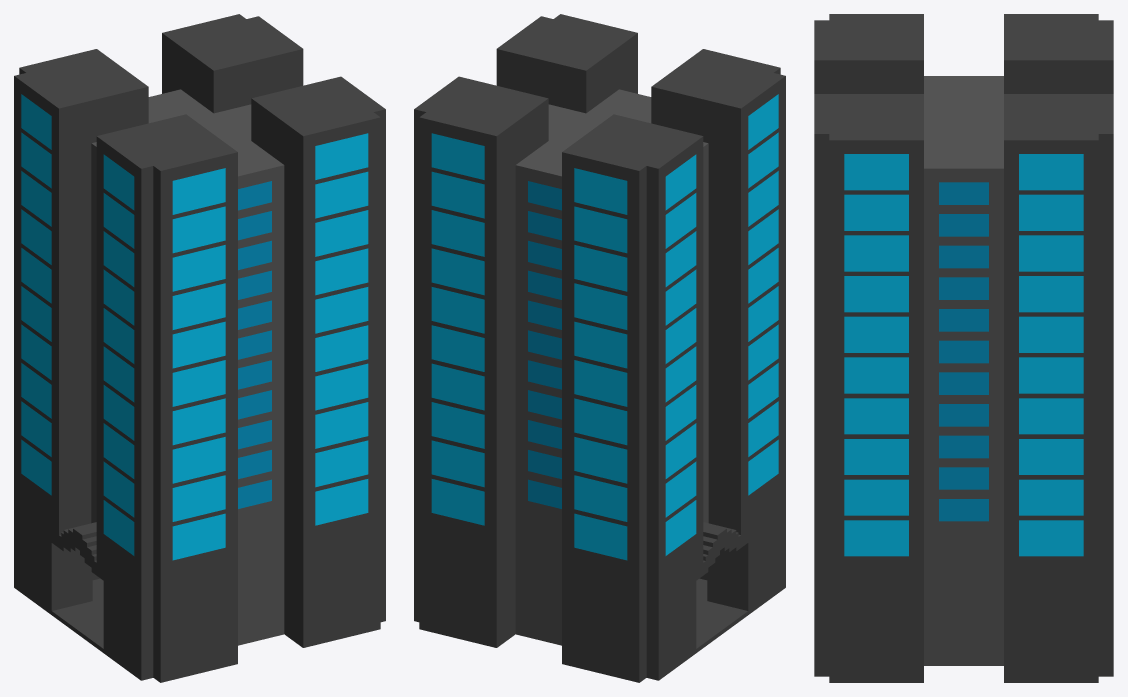
Rendered from tall-tower-3.obj.
3 renders of one model, left to right at view 1: azimuth 30°, elevation 25°; view 2: azimuth 150°, elevation 25°; view 3: azimuth 270°, elevation 25°, orthographic. The views are drawn at different scales.
Size of the model in its own units: 60 by 120 by 60.
1 material, 1 textured.
